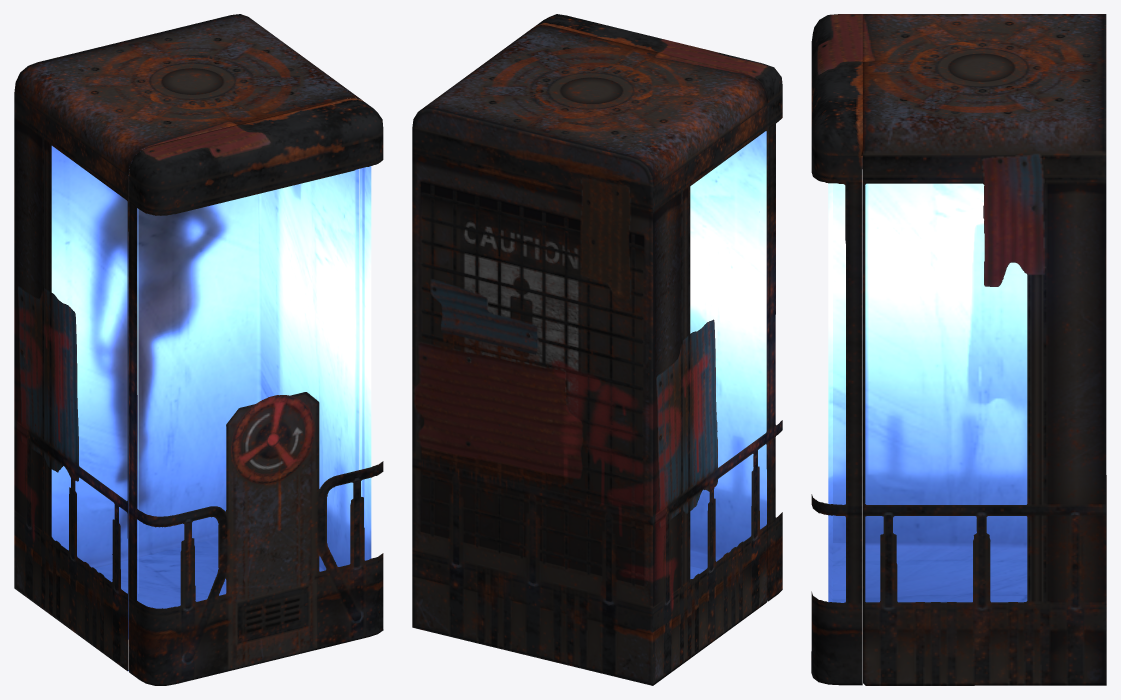
File: cloning_vat_fridge.glb
The picture shows the model from 3 angles, left to right: view 1: azimuth 30°, elevation 25°; view 2: azimuth 150°, elevation 25°; view 3: azimuth 270°, elevation 25°; orthographic projection. The views are drawn at different scales.
Parts seen in each view (by area): view 1: Object_2; view 2: Object_2; view 3: Object_2.
Part boxes in pixels (x1=…): Object_2: x1=14, y1=14, x2=383, y2=685; Object_2: x1=412, y1=14, x2=782, y2=685; Object_2: x1=811, y1=14, x2=1106, y2=685.
Size of the model in its own units: 4.81 by 10 by 4.81.
1 material, 1 textured.
